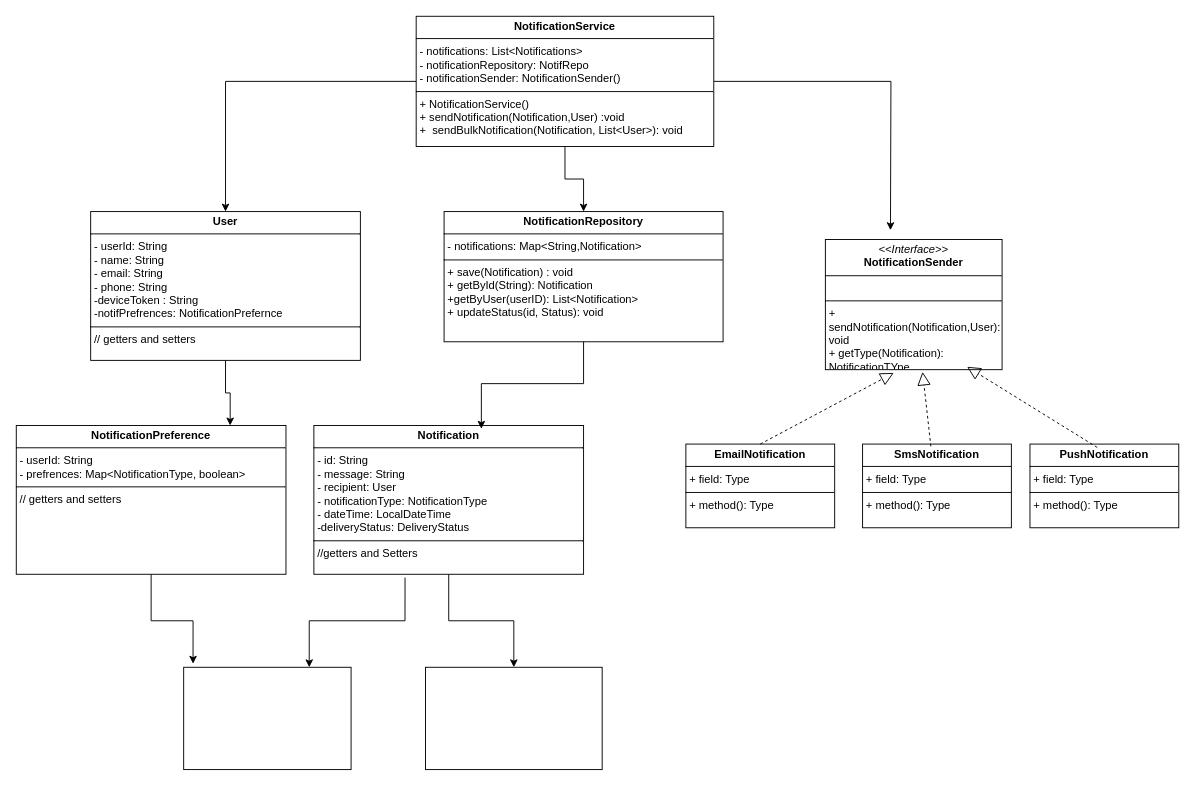
The diagram is 1195 pixels wide and 786 high, and some of its shapes have lost their labels. Here are the shapes that lost their labels. From the top down, the centre of each, then its label:
At (267,718): "<<ENUM>> NotificationType EMAIL SMS PUSH_NOTIFICATION".
At (513,718): "<<ENUM>> DeliveryStatus PENDING SENT DELIVERED FAILED".
